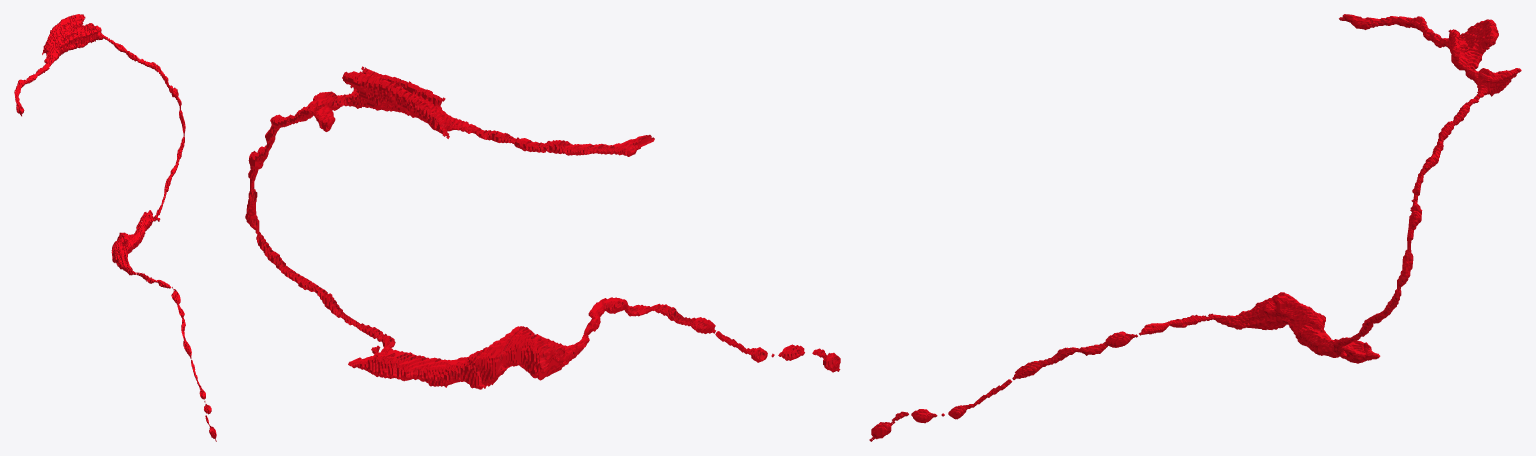
File: SVV_SMDVL.gltf
3 views of the same model, side by side, from view 1: azimuth 30°, elevation 25°; view 2: azimuth 150°, elevation 25°; view 3: azimuth 270°, elevation 25° (orthographic). The views are drawn at different scales.
Parts seen in each view (by area): view 1: SMDVL; view 2: SMDVL; view 3: SMDVL.
Boxes of the visible parts, x1,y1,x2,y2 form: SMDVL: (14,14,216,441); SMDVL: (245,66,840,389); SMDVL: (869,14,1521,441).
Size of the model in its own units: 116664 by 167551 by 219294.
